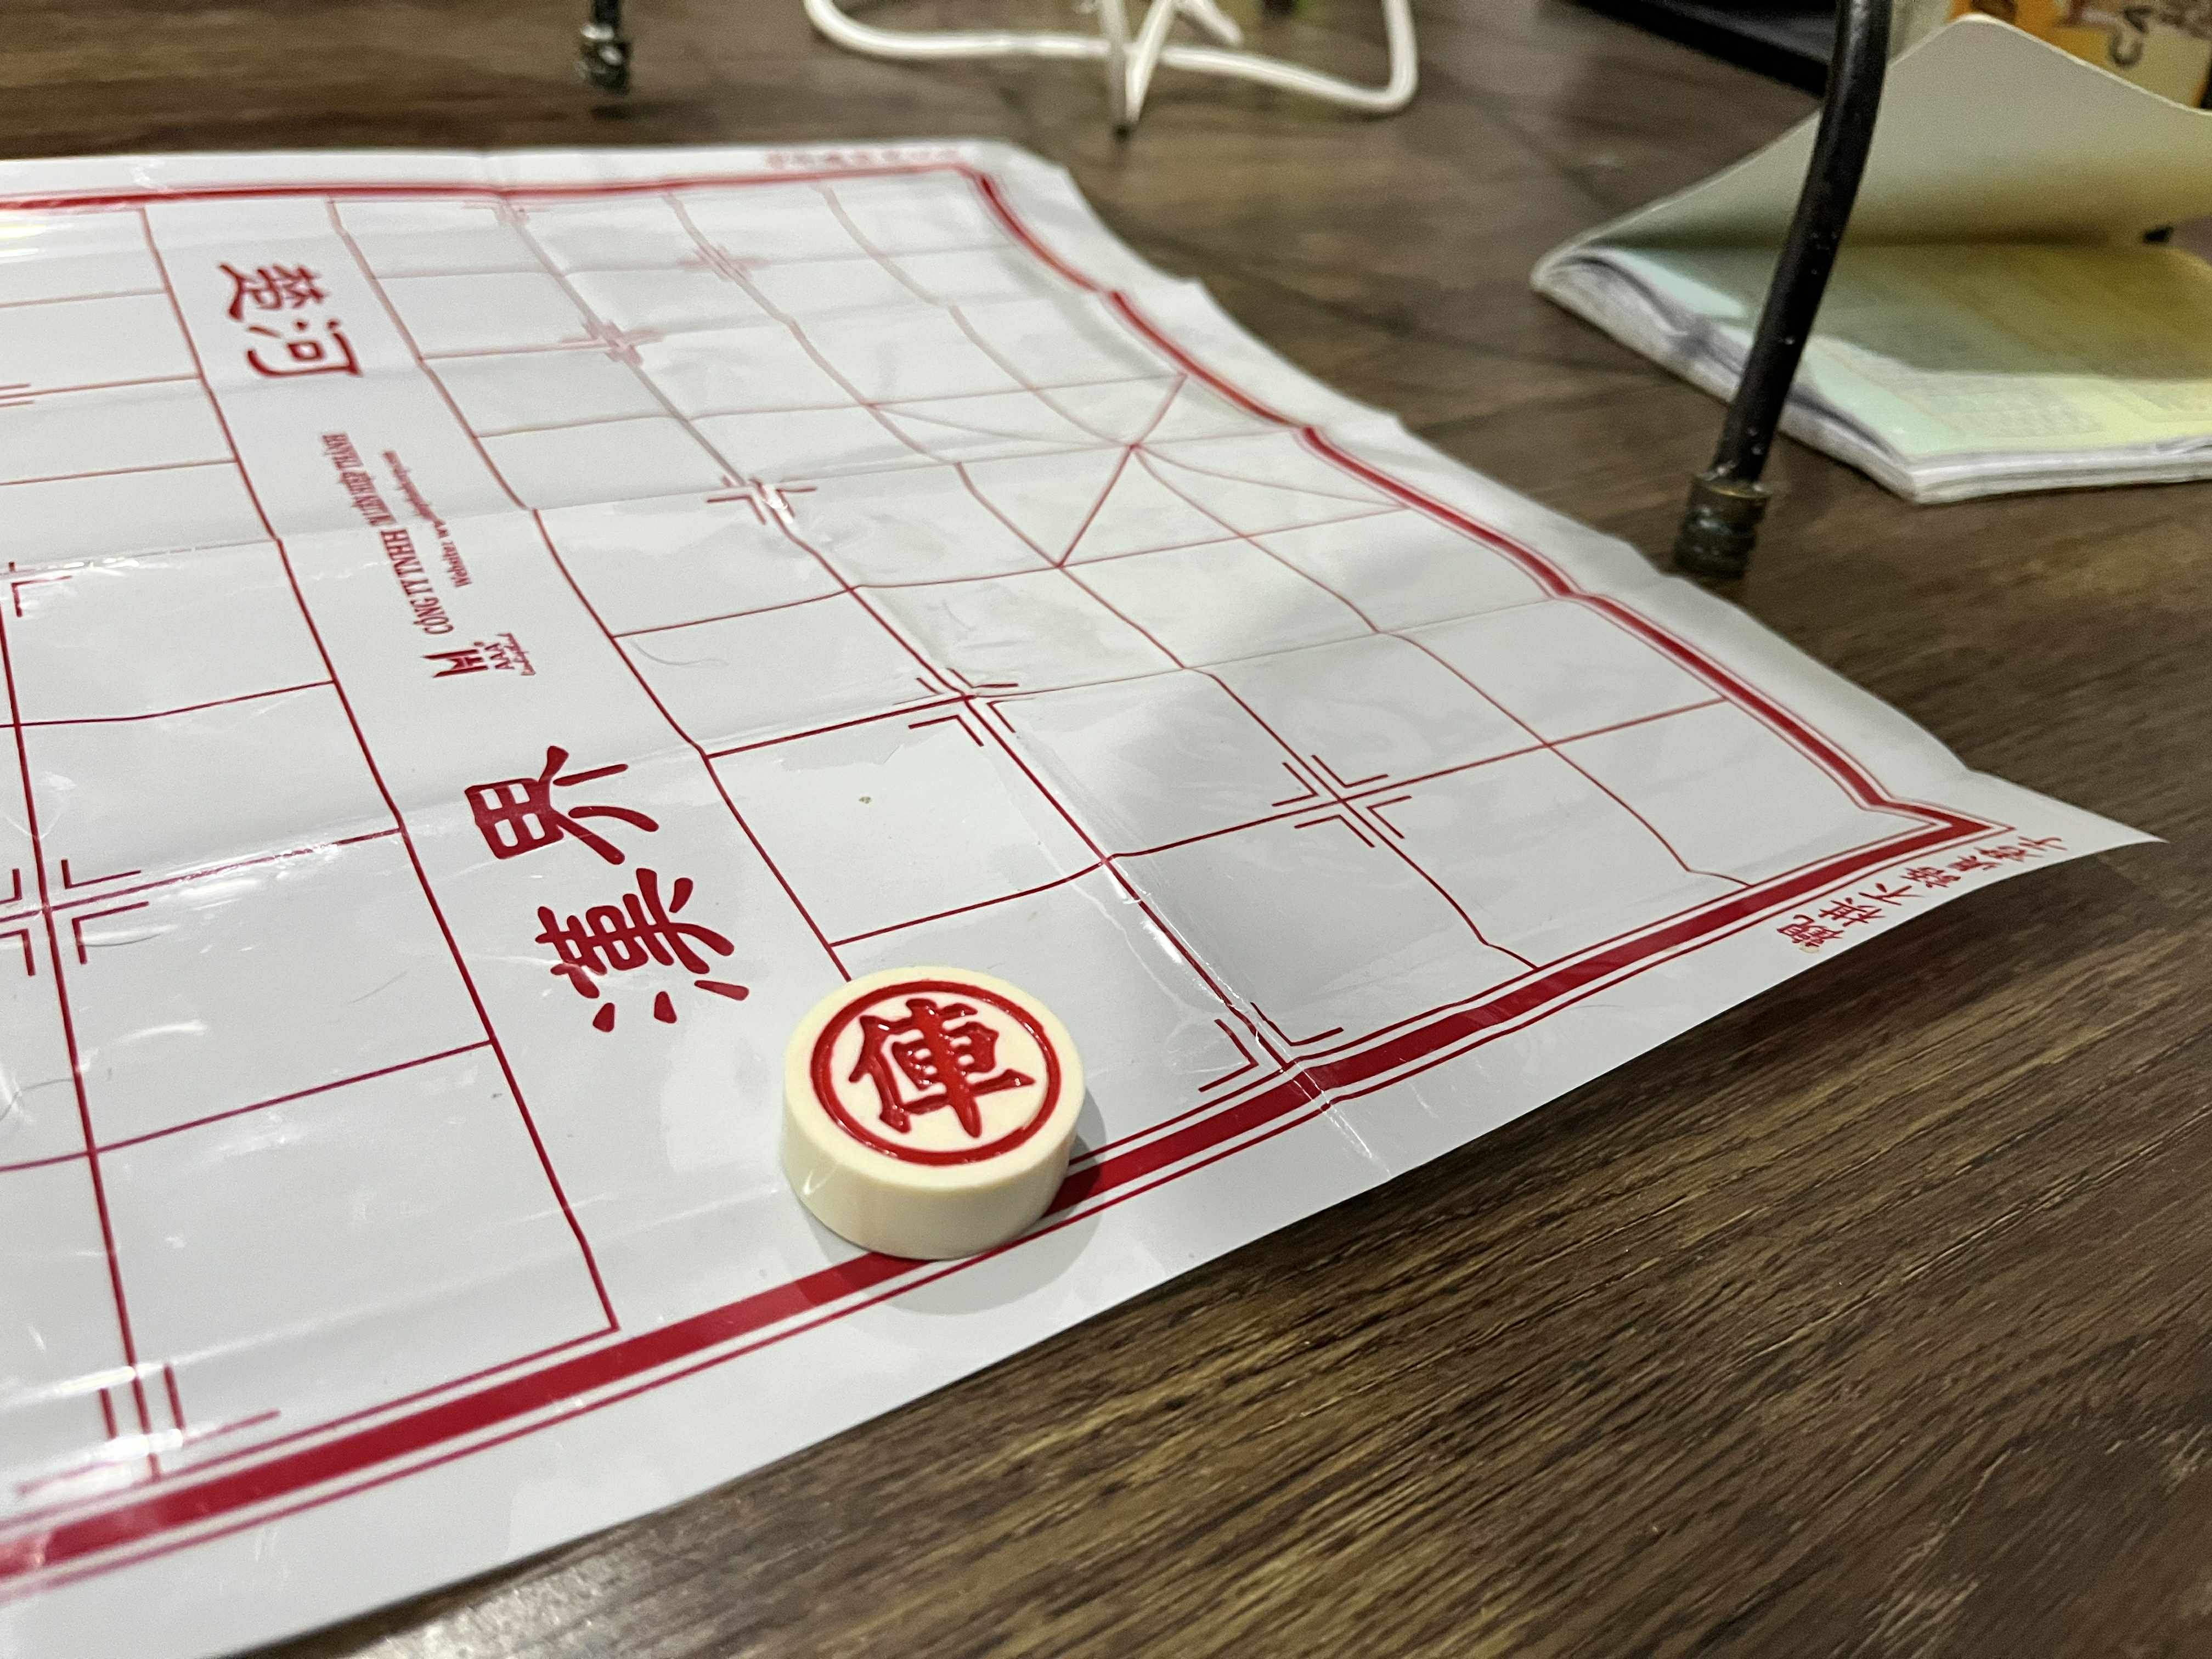red-chariot: (780, 968, 1085, 1193)
